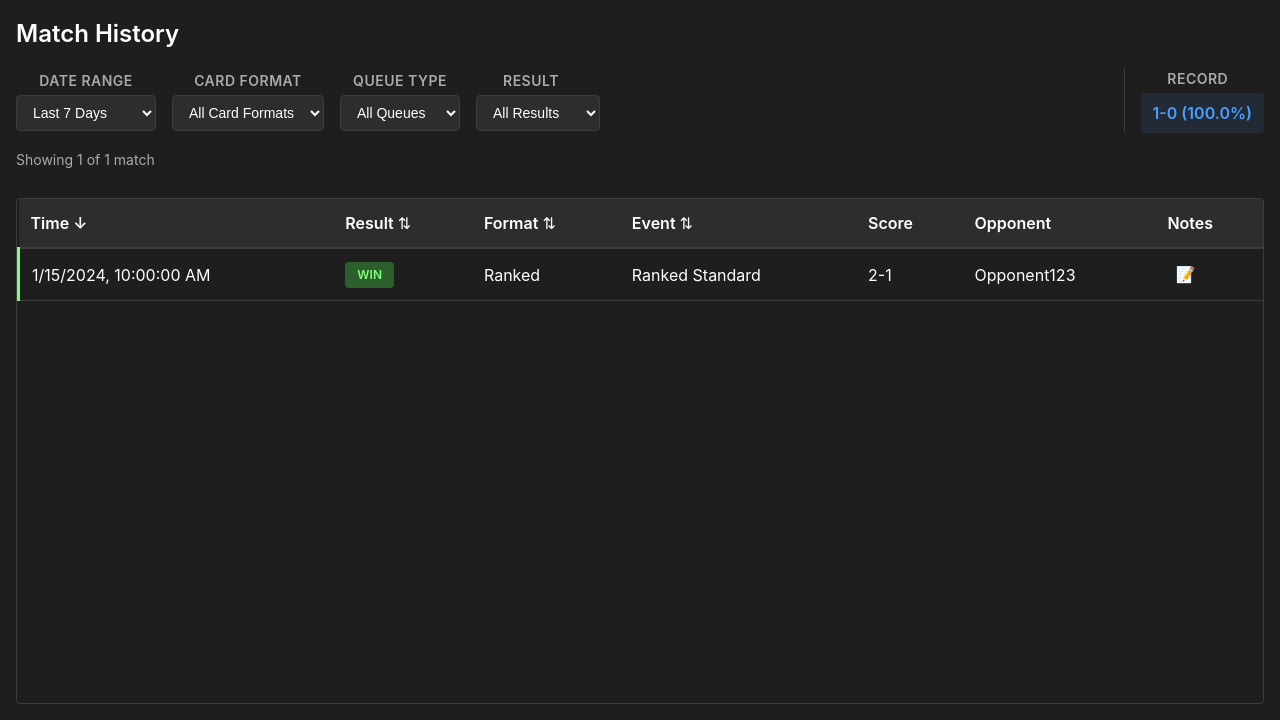
MatchHistory › Sorting › should toggle sort direction when clicking same header
This screenshot has width=1280, height=720.
Expected: the table is shown, x1=17 y1=199 x2=1263 y2=301
What coordinates should you click on to do the following:
click the column heading "Time ↓"
I would click on:
 (176, 224)
Its box is x1=18 y1=199 x2=333 y2=248.
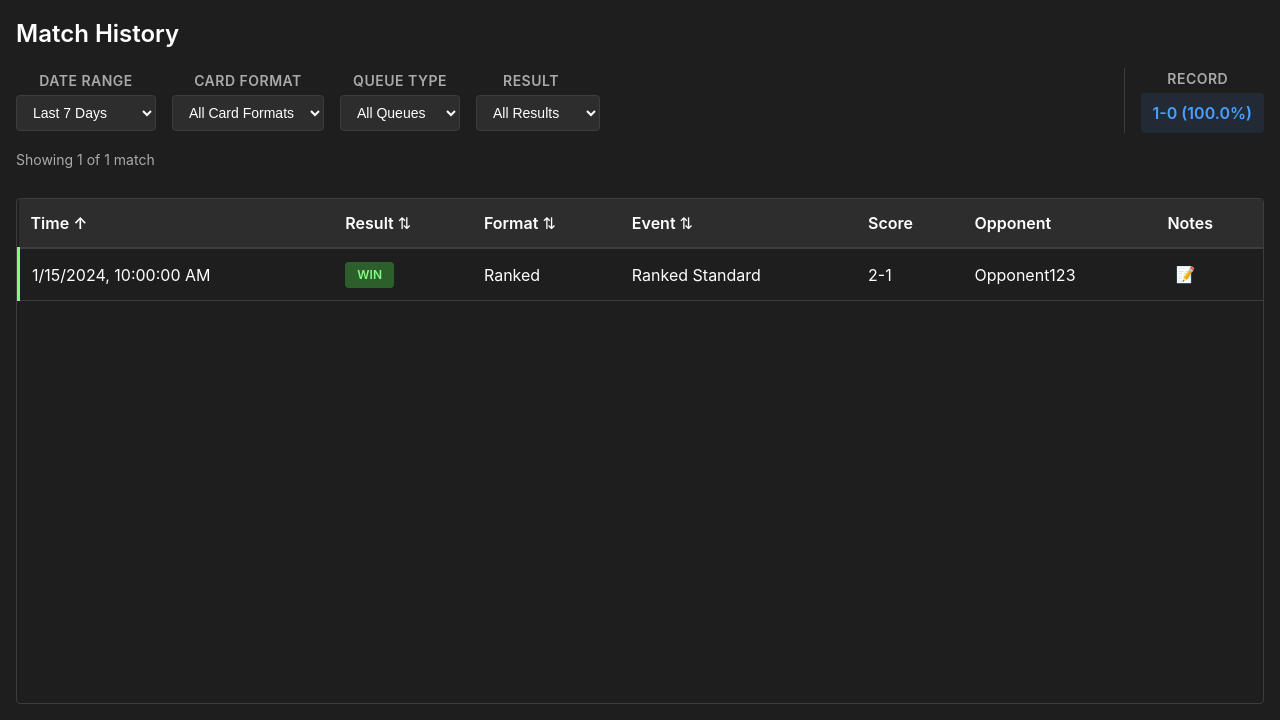
Now the column heading "Time ↑" is shown
// Clicking again should toggle back to desc
What coordinates should you click on to do the following:
click the column heading "Time ↑"
I would click on:
 (176, 224)
Its box is x1=18 y1=199 x2=333 y2=248.
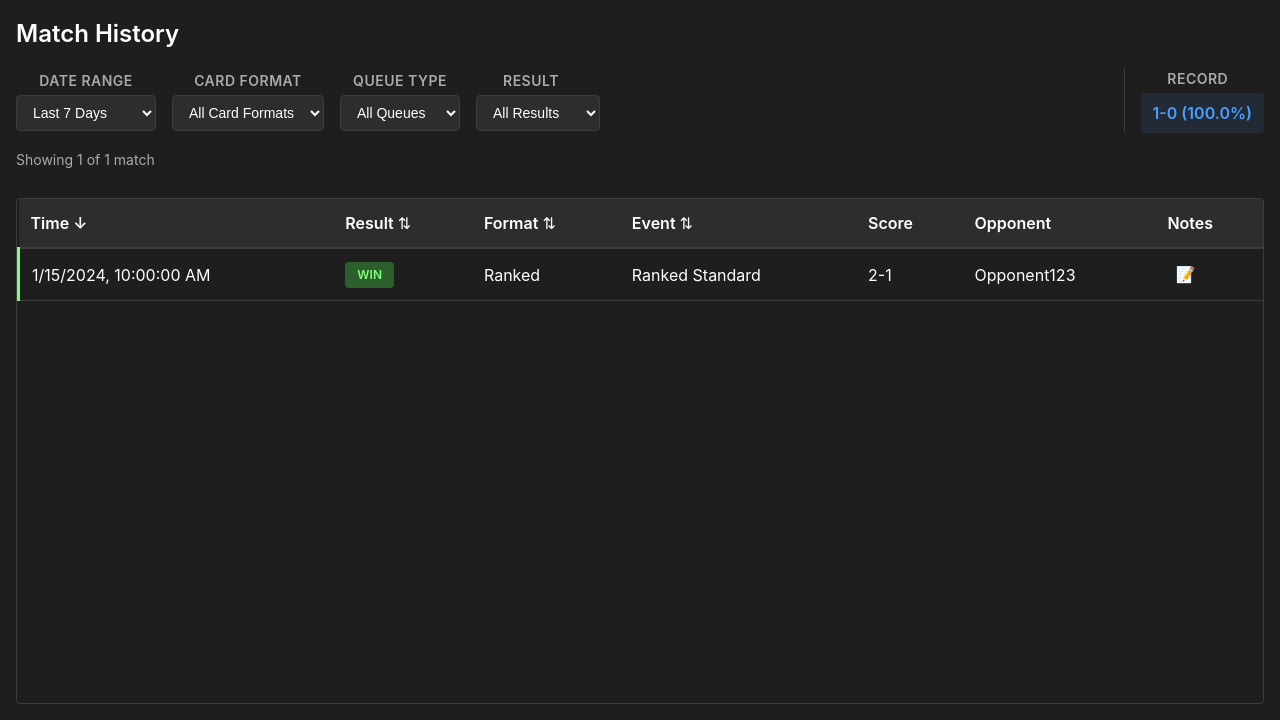
Now the column heading "Time ↓" is shown, box x1=18 y1=199 x2=333 y2=248
